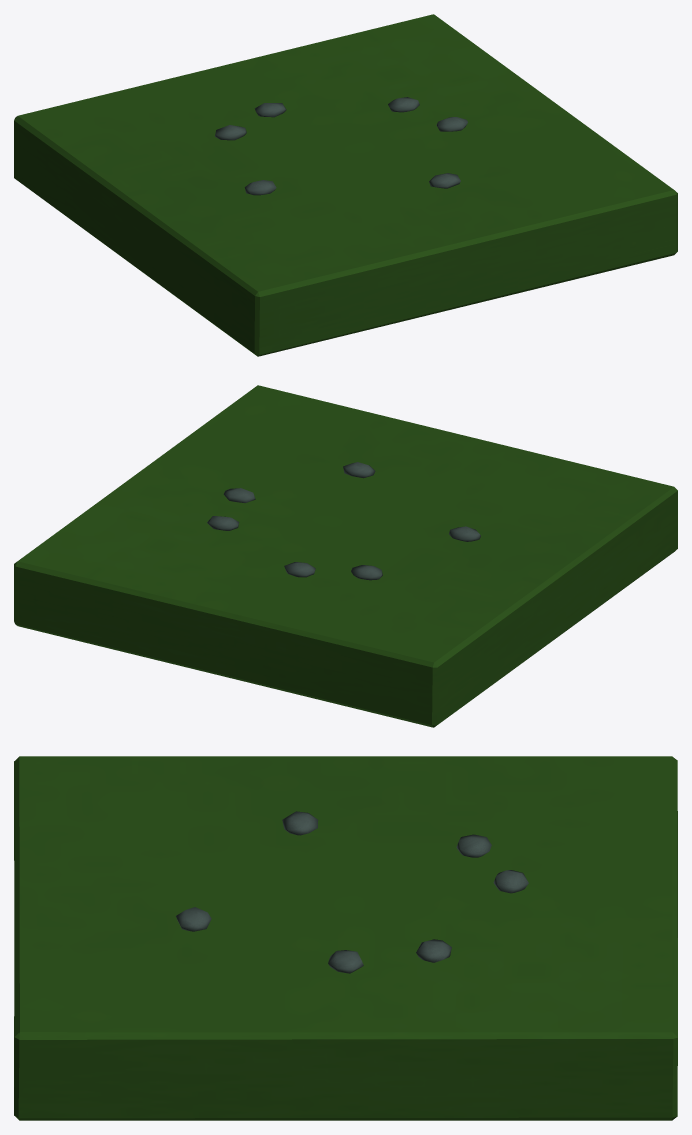
File: SM_floor_tile_LOD2.fbx
3 views of the same model, one above another, from view 1: azimuth 30°, elevation 25°; view 2: azimuth 150°, elevation 25°; view 3: azimuth 270°, elevation 25° (orthographic). The views are drawn at different scales.
Parts seen in each view (by area): view 1: SM_floor_tile_LOD2; view 2: SM_floor_tile_LOD2; view 3: SM_floor_tile_LOD2.
Part boxes in pixels (x1,y1,x2,y2): SM_floor_tile_LOD2: [14, 14, 677, 356]; SM_floor_tile_LOD2: [14, 385, 677, 727]; SM_floor_tile_LOD2: [14, 756, 677, 1120].
Bounding box in the file's own units: 0.9965 × 0.9965 × 0.1636.
